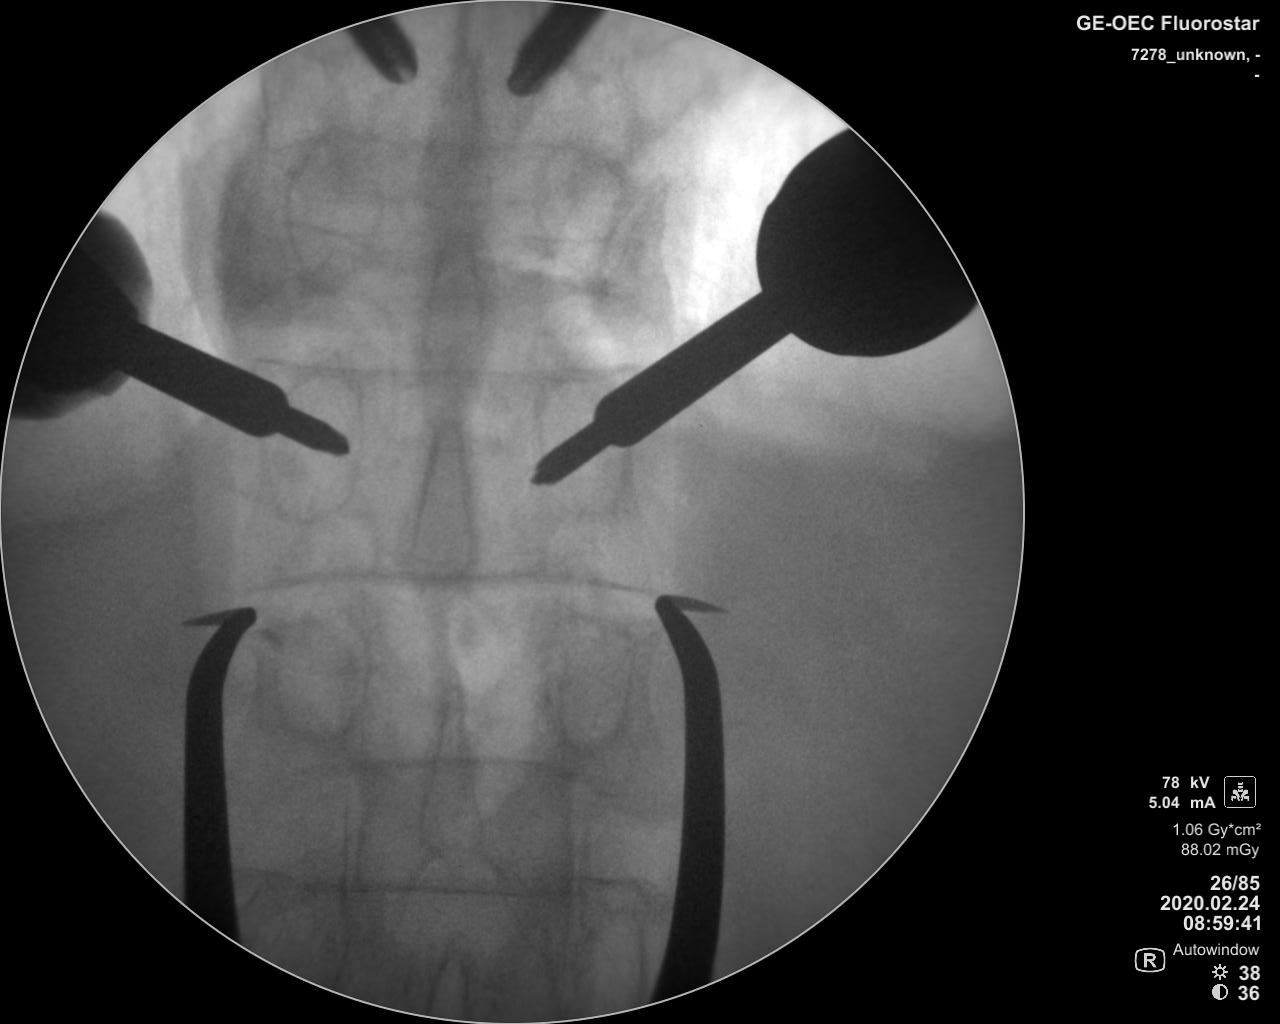eyes: (262, 372, 364, 522), (286, 132, 382, 286), (537, 370, 625, 520), (532, 141, 620, 289), (549, 607, 633, 752), (273, 618, 366, 740)
line: (230, 565, 650, 602), (256, 353, 622, 386), (250, 754, 600, 782), (266, 875, 585, 903)
nose: (421, 17, 492, 235), (414, 670, 486, 862), (408, 419, 478, 608), (416, 234, 485, 419)
